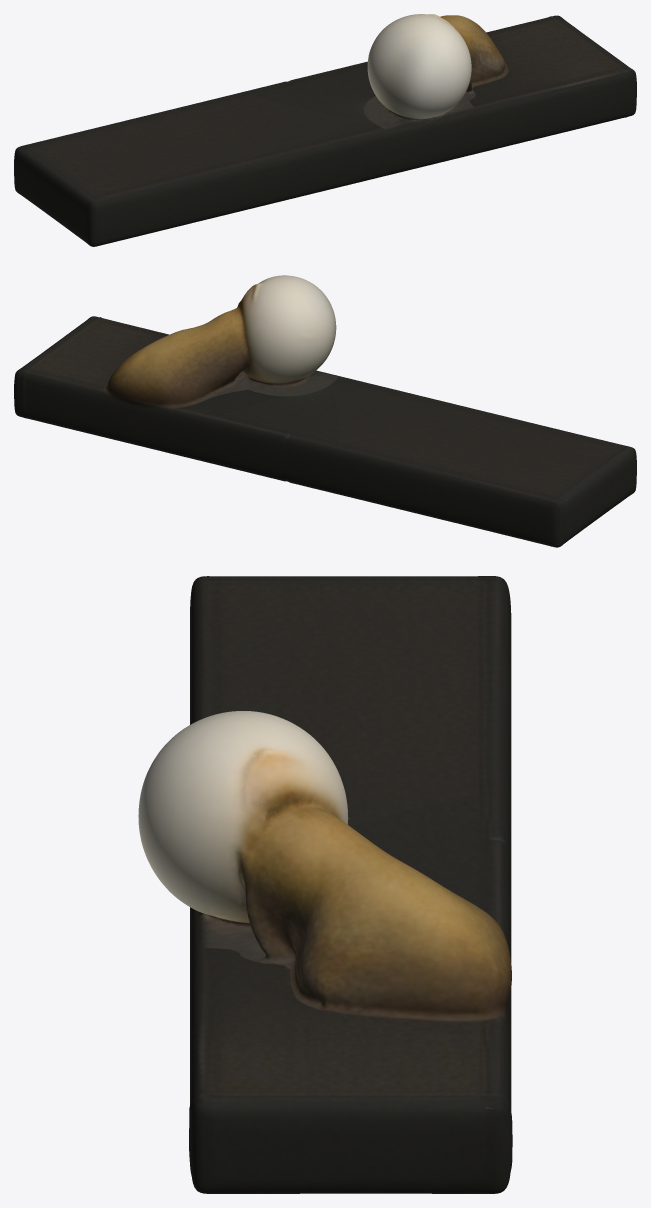
Rendered from product-traditional-black-elm-wood-floating-shelf-36-07.glb.
The picture shows the model from 3 angles, top to bottom: view 1: azimuth 30°, elevation 25°; view 2: azimuth 150°, elevation 25°; view 3: azimuth 270°, elevation 25°; orthographic projection. The views are drawn at different scales.
Parts seen in each view (by area): view 1: geometry_0; view 2: geometry_0; view 3: geometry_0.
Part boxes in pixels (<box>): geometry_0: <box>14,14,636,246</box>; geometry_0: <box>14,275,636,547</box>; geometry_0: <box>138,576,512,1193</box>.
Size of the model in its own units: 1.97 by 0.4789 by 0.583.
1 material, 1 textured.
